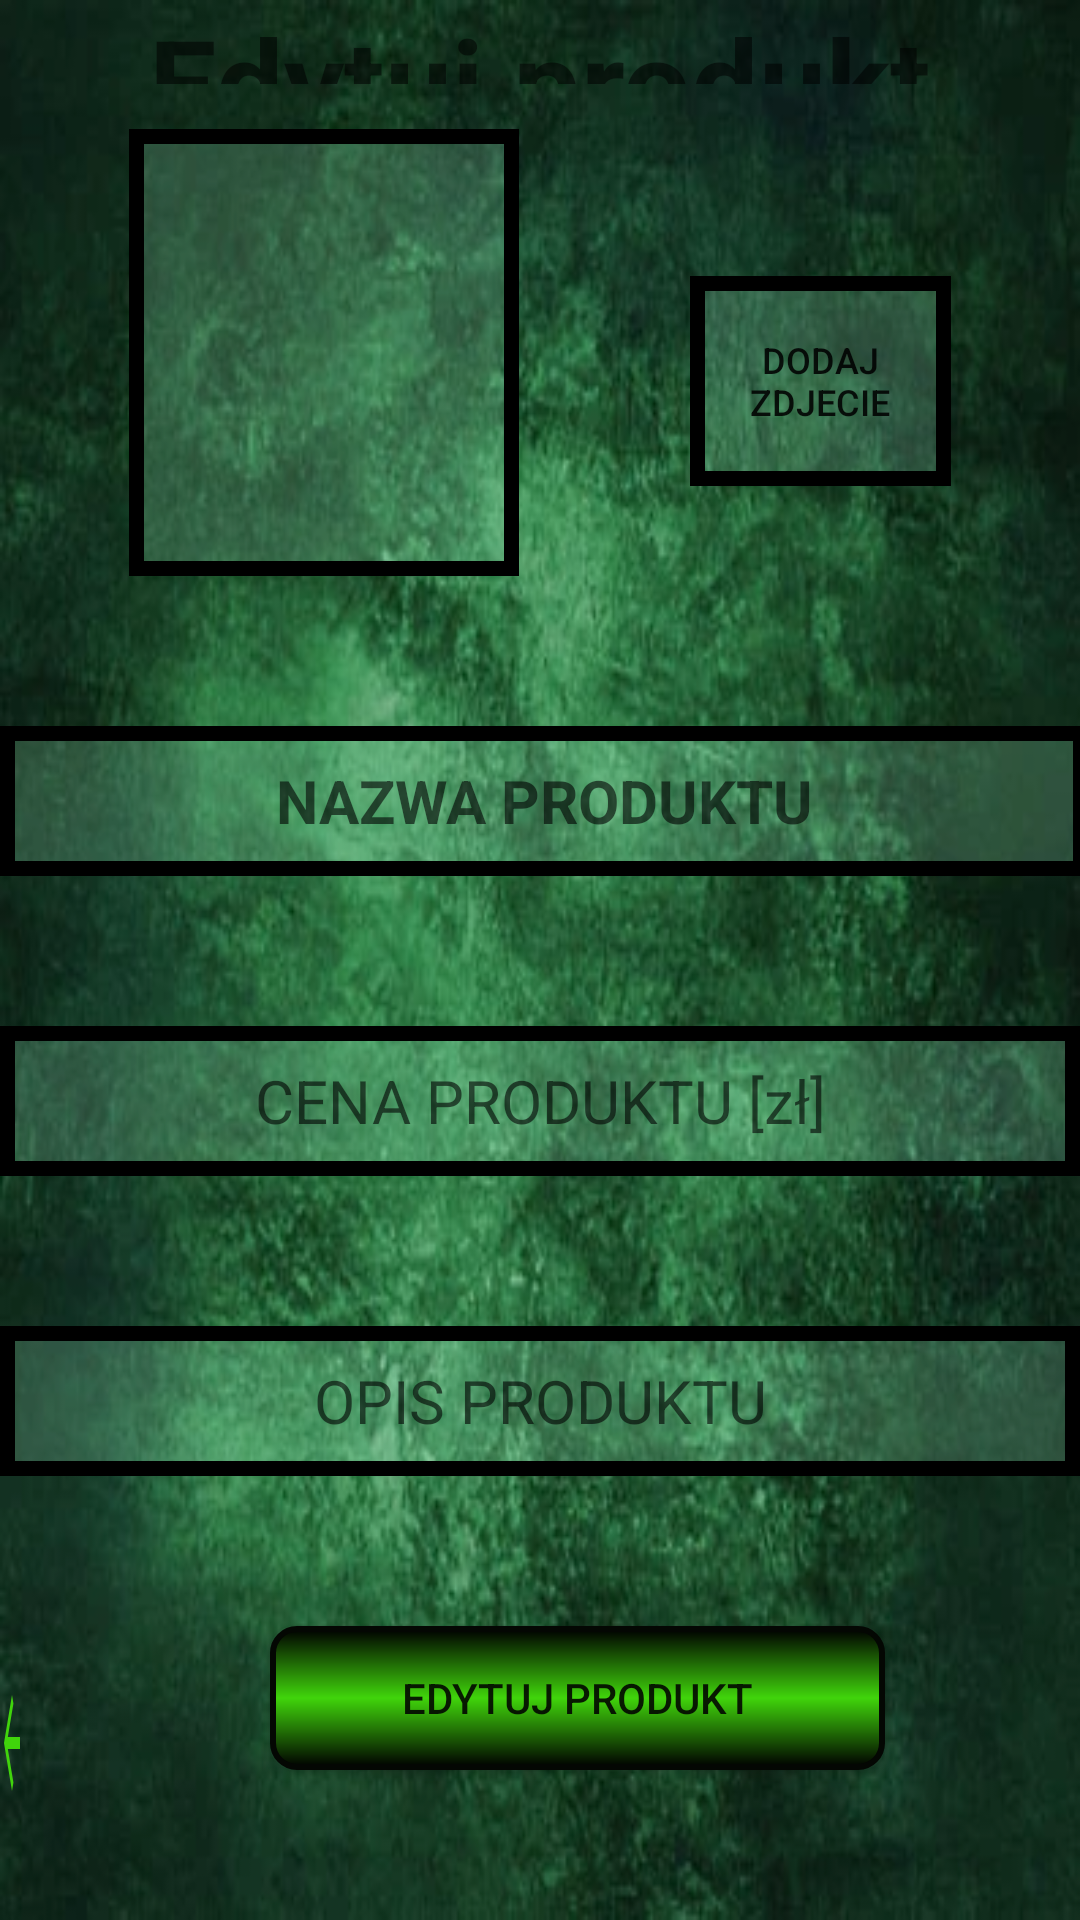

Where to tap for icons on this 1080px×1920px app screen, as (x,y):
back: (10,1732)
